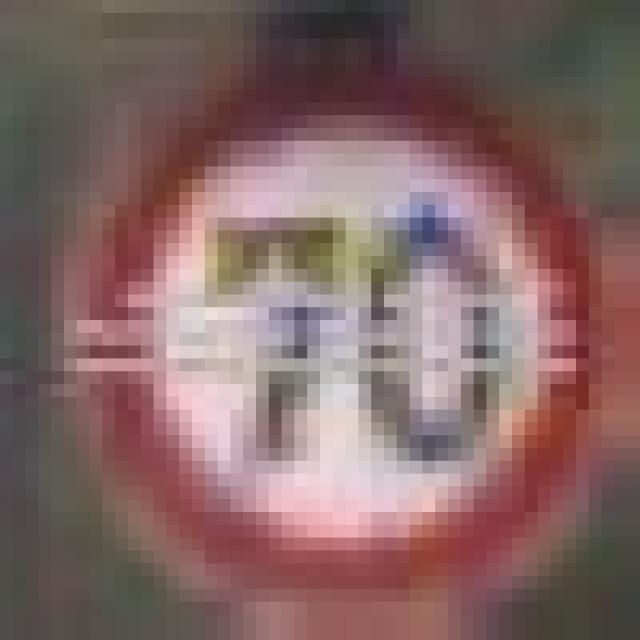SPEED_LIMIT_70: (77, 77, 589, 576)
